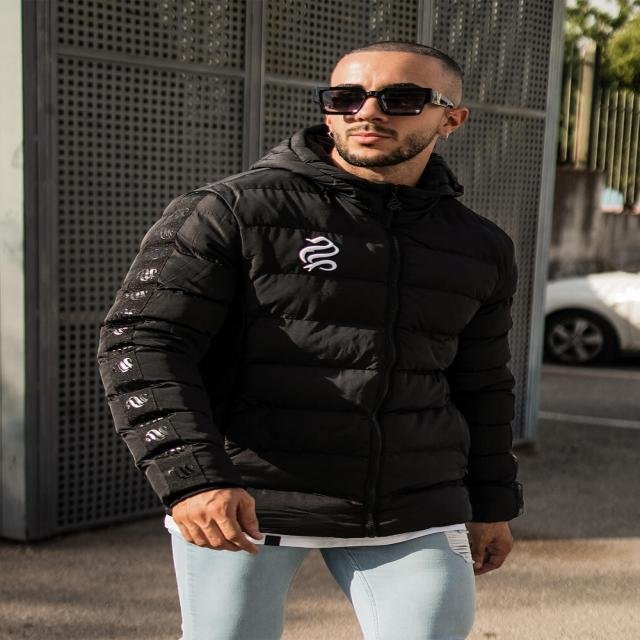Jacket: (91, 158, 555, 516)
